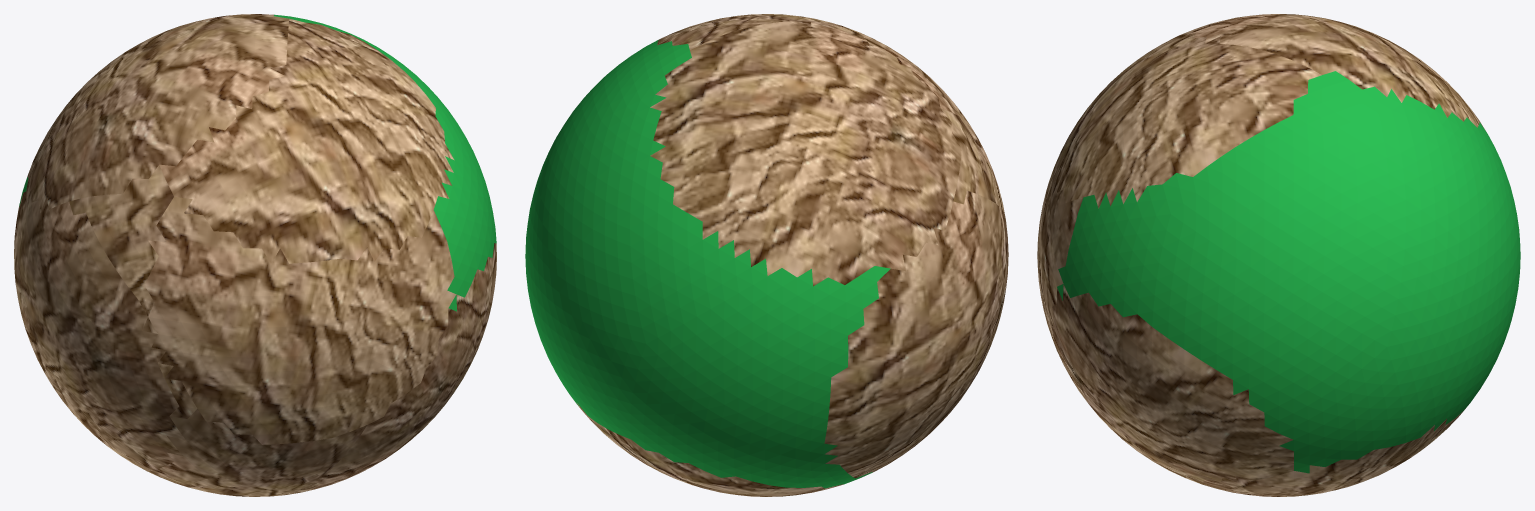
File: ball.obj
3 views of the same model, side by side, from view 1: azimuth 30°, elevation 25°; view 2: azimuth 150°, elevation 25°; view 3: azimuth 270°, elevation 25° (orthographic).
Visible parts, largest first — view 1: Object.1; view 2: Object.1; view 3: Object.1.
Boxes of the visible parts, x1,y1,x2,y2 form: Object.1: (14,14,496,496); Object.1: (525,14,1008,496); Object.1: (1037,14,1520,496).
Size of the model in its own units: 40 by 40 by 40.
Materials: 2 (1 with a texture image).
